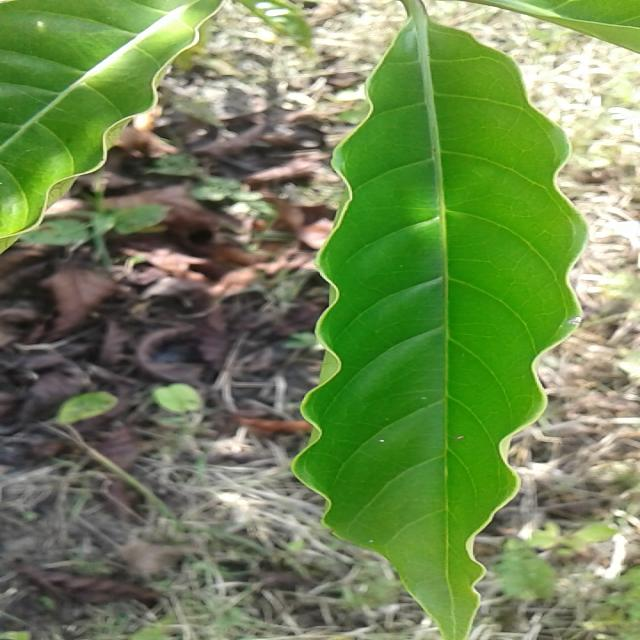Sanas: (289, 0, 588, 639)
